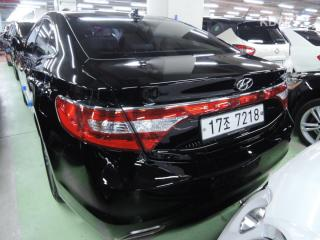1: (208, 120, 216, 135), (247, 109, 253, 123)
2: (241, 110, 248, 125)
7: (215, 117, 222, 133), (234, 112, 241, 127)
8: (253, 108, 260, 122)
plate: (192, 103, 270, 141)
조: (223, 116, 231, 130)
